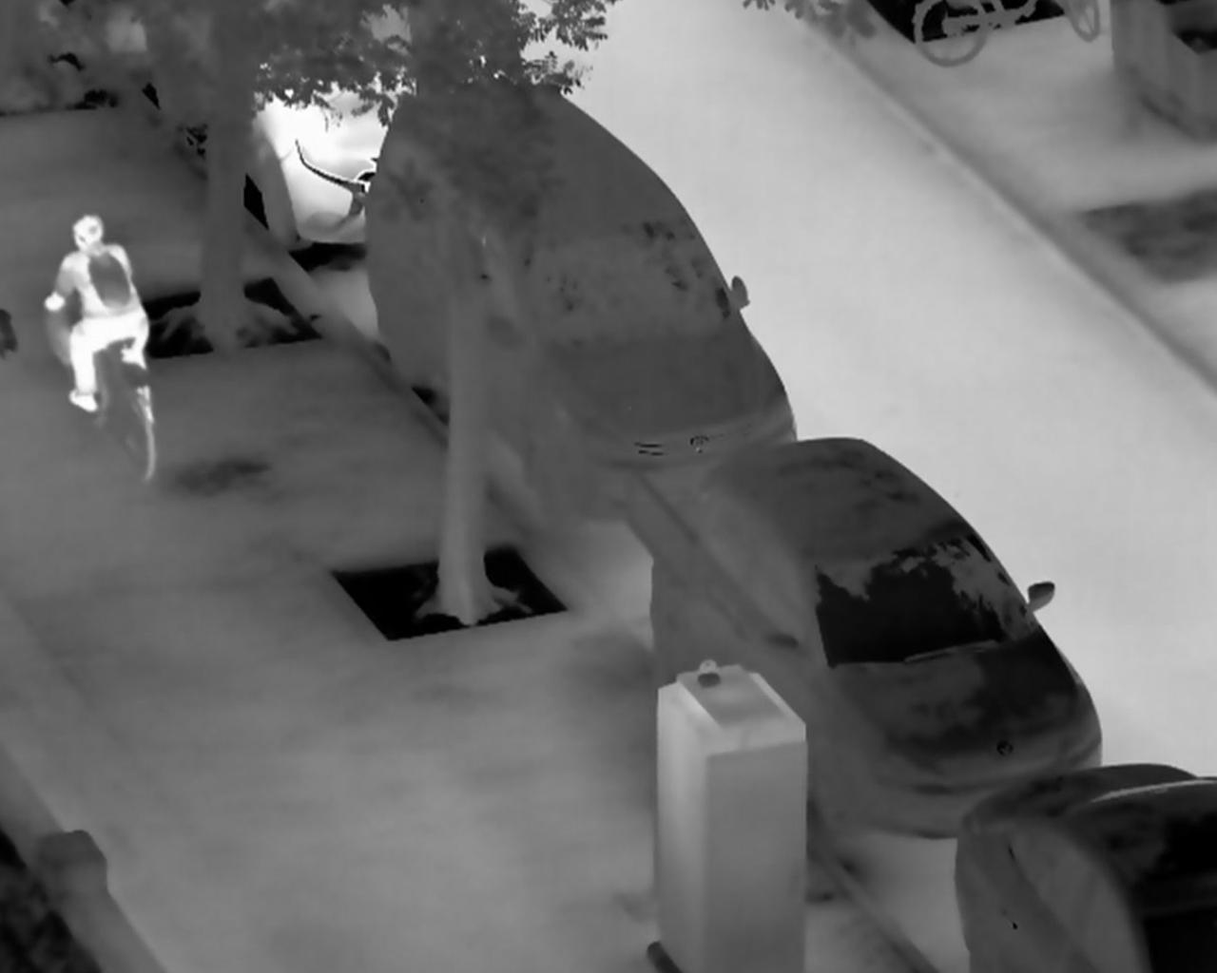person: (42, 210, 152, 420)
